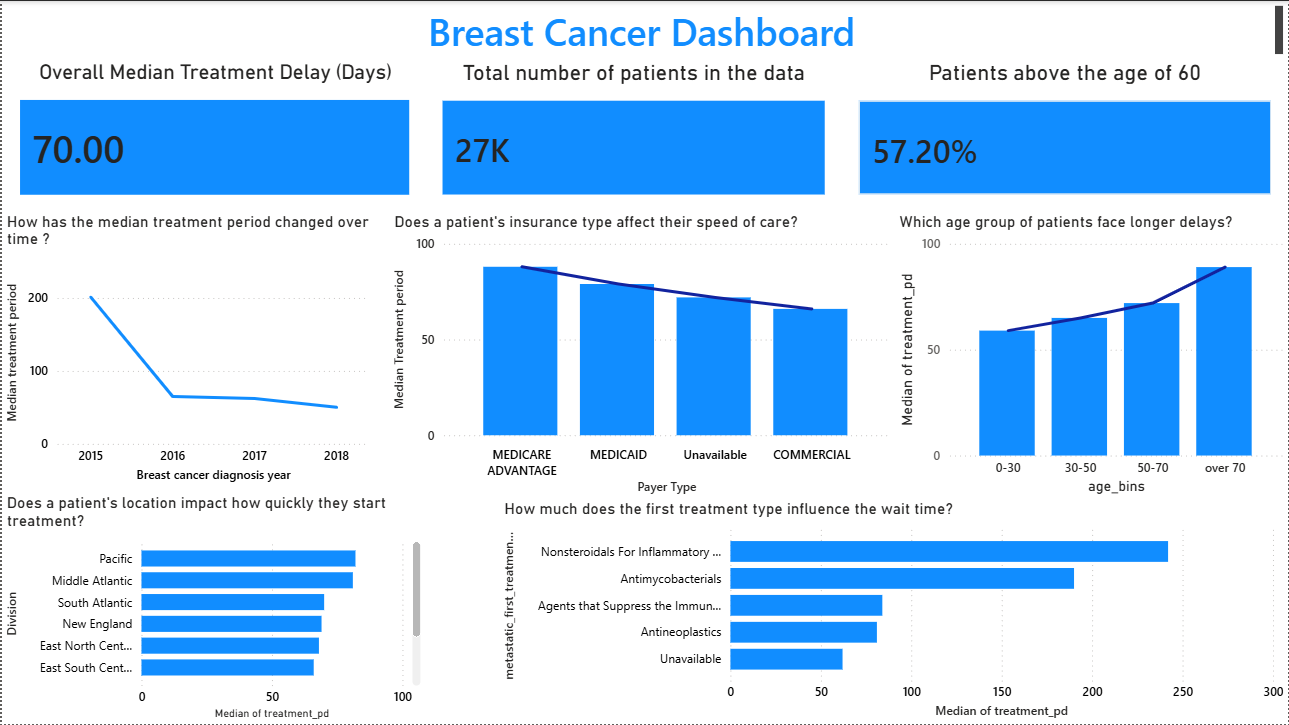

What the dashboard file says about the page in this screenshot:
{"tool":"powerbi","page":{"name":"WiDS_Dashboard","canvas":[1280,720],"ordinal":1},"visuals":[{"type":"lineChart","title":"How has the median treatment period changed over time ?","fields":{"Category":["train_PowerBI.breast_cancer_diagnosis_year"],"Y":["Median(train_PowerBI.treatment_pd)"]},"box":[0,210.2,370.7,273.7],"z":0},{"type":"lineClusteredColumnComboChart","title":"Does a patient''s insurance type affect their speed of care?","fields":{"Category":["train_PowerBI.payer_type"],"Y":["Median(train_PowerBI.treatment_pd)"],"Y2":["Median(train_PowerBI.treatment_pd)"]},"box":[385.6,210.2,502.6,286.1],"z":1000},{"type":"lineStackedColumnComboChart","title":"Which age group of patients face longer delays?","fields":{"Category":["train_PowerBI.age_bins"],"Y":["Median(train_PowerBI.treatment_pd)"],"Y2":["Median(train_PowerBI.treatment_pd)"]},"box":[888.2,210.2,391.8,286.1],"z":2000},{"type":"barChart","title":"How much does the first treatment type influence the wait time?","fields":{"Category":["train_PowerBI.metastatic_first_treatment_type"],"Y":["Median(train_PowerBI.treatment_pd)"]},"box":[495.1,496.3,784.9,222.7],"z":3000},{"type":"barChart","title":"Does a patient''s location impact how quickly they start treatment?","fields":{"Category":["train_PowerBI.division"],"Y":["Median(train_PowerBI.treatment_pd)"]},"box":[0,490.1,421.7,230.1],"z":4000},{"type":"cardVisual","title":"Overall Median Treatment Delay (Days)","fields":{"Data":["train_PowerBI.Overall Median Treatment"]},"box":[1.2,58.5,421.7,151.8],"z":5000},{"type":"cardVisual","title":"Total number of patients in the data","fields":{"Data":["train_PowerBI.Total Patients"]},"box":[421.7,58.5,414.2,151.8],"z":6000},{"type":"cardVisual","title":"Patients above the age of 60","fields":{"Data":["train_PowerBI.Percent Above 60"]},"box":[835.9,58.5,444.1,151.8],"z":7000},{"type":"textbox","box":[1.2,0,1278.8,58.5],"z":7001}]}

Visuals, with their boxes in screenshot pixels (x1, y1, x2, y2), scaled from the page's 1280x720 canvas onto the 1289x725 screenshot:
"How has the median treatment period changed over time ?" lineChart: 0 212 373 487
"Does a patient''s insurance type affect their speed of care?" lineClusteredColumnComboChart: 388 212 894 500
"Which age group of patients face longer delays?" lineStackedColumnComboChart: 894 212 1288 500
"How much does the first treatment type influence the wait time?" barChart: 499 500 1288 724
"Does a patient''s location impact how quickly they start treatment?" barChart: 0 494 425 724
"Overall Median Treatment Delay (Days)" cardVisual: 1 59 426 212
"Total number of patients in the data" cardVisual: 425 59 842 212
"Patients above the age of 60" cardVisual: 842 59 1288 212
textbox: 1 0 1288 59
